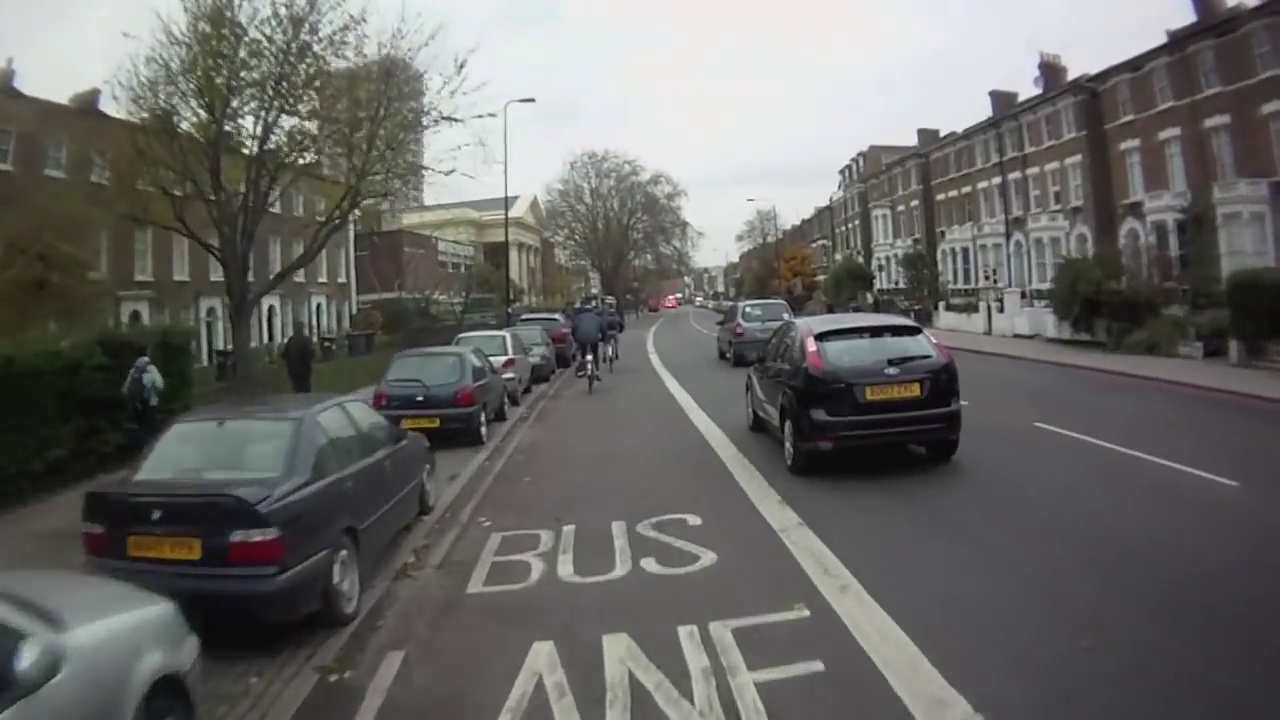cyclist_back: (569, 291, 602, 395), (597, 290, 624, 379)
